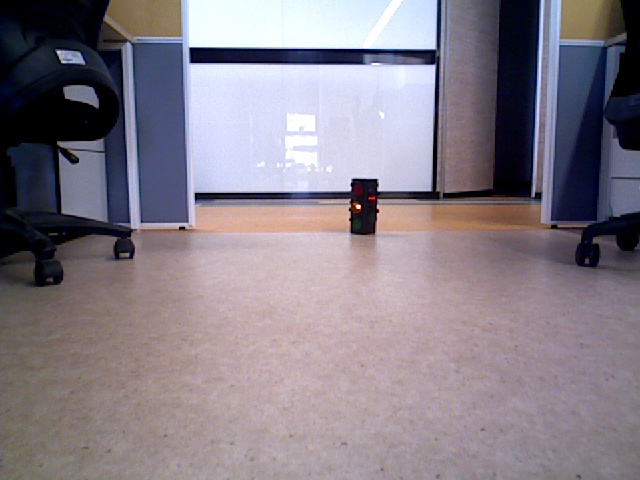yellow: (350, 182, 374, 231)
